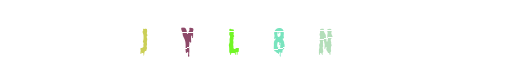8: (212, 0, 292, 80)
J: (117, 0, 197, 80)
L: (192, 0, 272, 80)
N: (249, 0, 329, 80)
Y: (147, 0, 227, 80)
